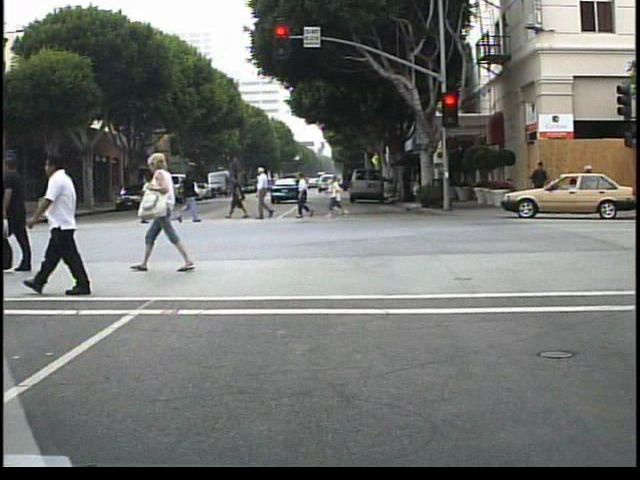person: (38, 152, 109, 299), (139, 150, 204, 277), (3, 147, 47, 281), (251, 166, 282, 222), (179, 170, 204, 228), (294, 168, 317, 222), (575, 160, 597, 214), (228, 172, 251, 223), (529, 157, 550, 212), (4, 184, 24, 236), (16, 195, 37, 238), (141, 172, 153, 225)
